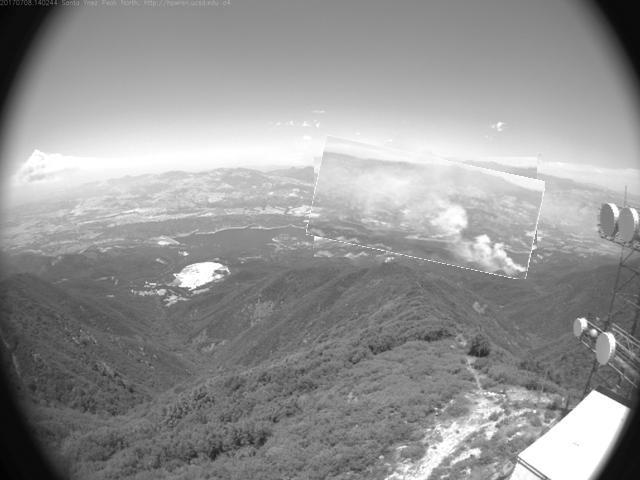smoke: (311, 147, 543, 270)
